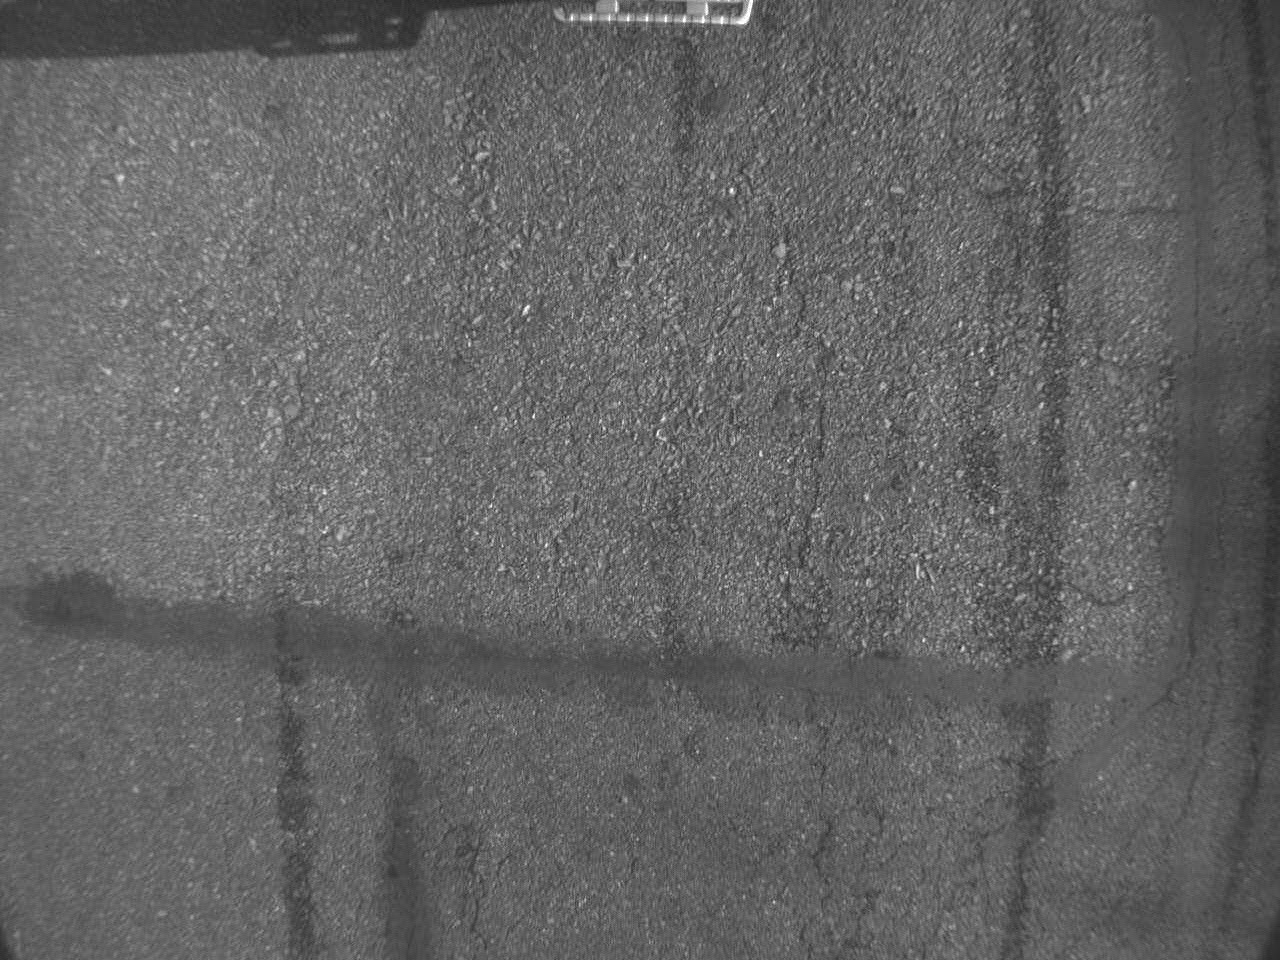sealed: (9, 566, 1172, 722)
